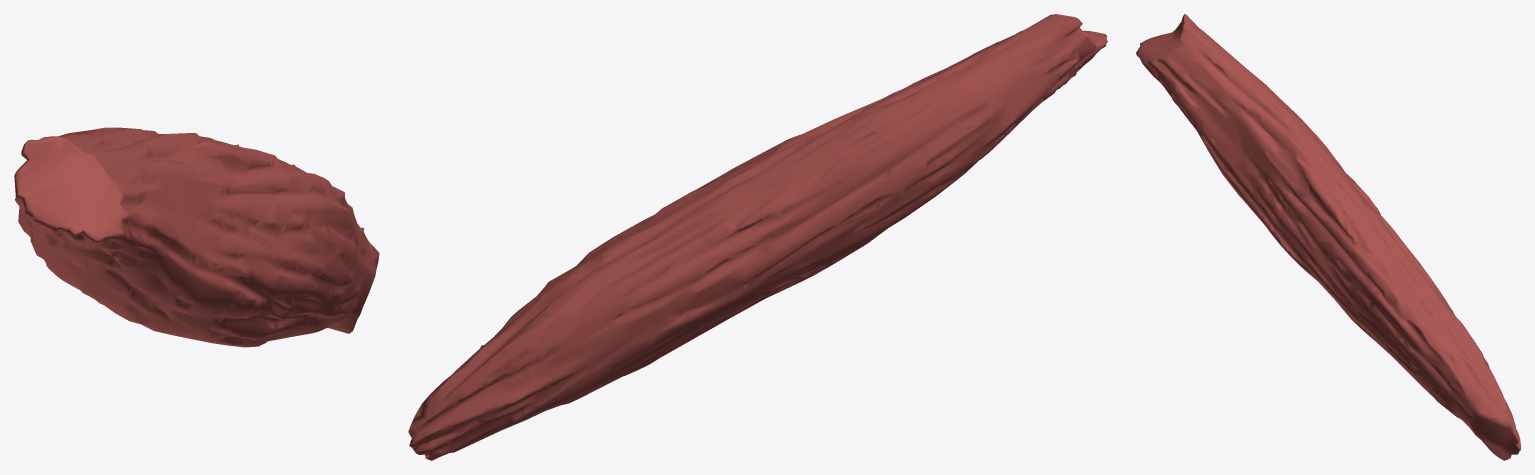
The model's file is FMA32536.glb.
3 renders of one model, left to right at view 1: azimuth 30°, elevation 25°; view 2: azimuth 150°, elevation 25°; view 3: azimuth 270°, elevation 25°, orthographic. The views are drawn at different scales.
Visible parts, largest first — view 1: FMA32536; view 2: FMA32536; view 3: FMA32536.
Part boxes in pixels (x1,y1,x2,y2): FMA32536: (14,127,379,347); FMA32536: (408,14,1107,460); FMA32536: (1136,14,1520,460).
Size of the model in its own units: 0.0374 by 0.0305 by 0.0366.
